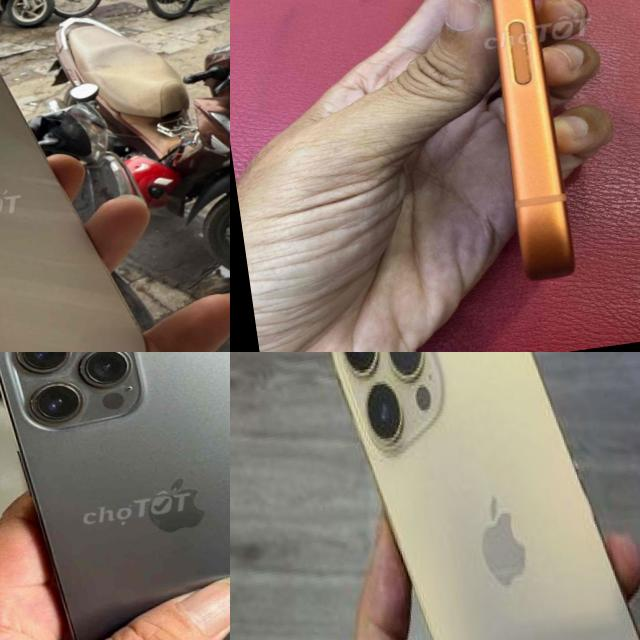gen_12_13: (313, 352, 640, 640), (0, 352, 230, 640), (0, 0, 169, 352)
gen_17: (440, 0, 626, 289)
